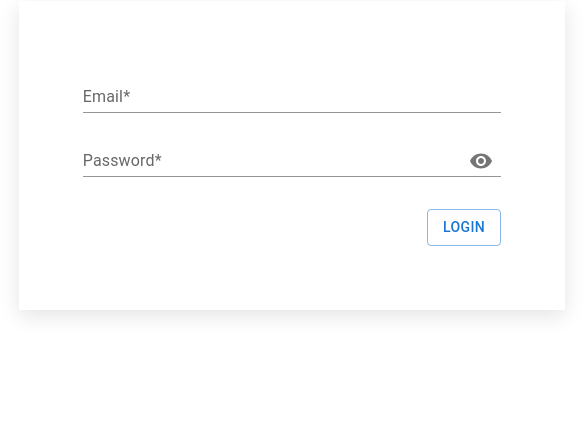
Scenario: Login page component › Should show an error after login clicked
Type "test@email.com" into the field labelled "Email*". click: {"x": 292, "y": 97}
box: x1=83 y1=81 x2=501 y2=113
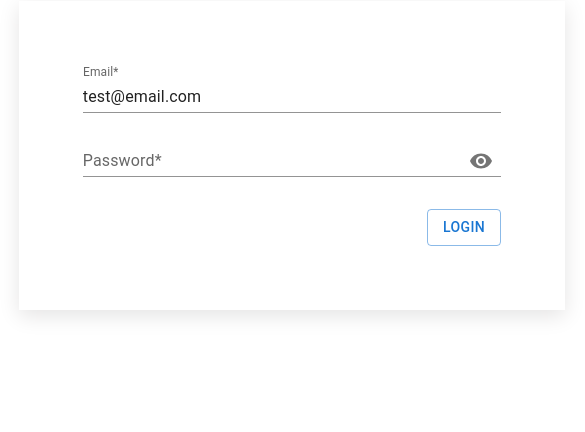
Type "password" into the password field with test id "passwordInput". click: {"x": 268, "y": 161}
box: x1=83 y1=145 x2=453 y2=177
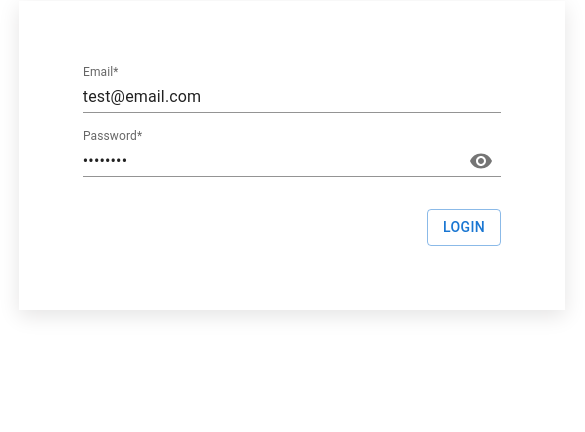
Click the button "Login". click: {"x": 464, "y": 227}
box: x1=427 y1=209 x2=501 y2=246
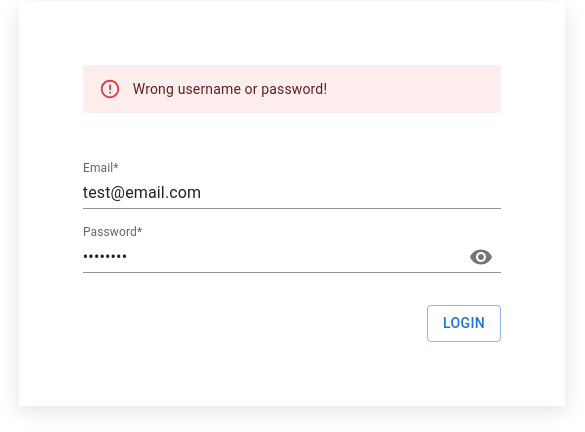
Now the text "Wrong username or password!" is shown, box x1=133 y1=81 x2=327 y2=97
